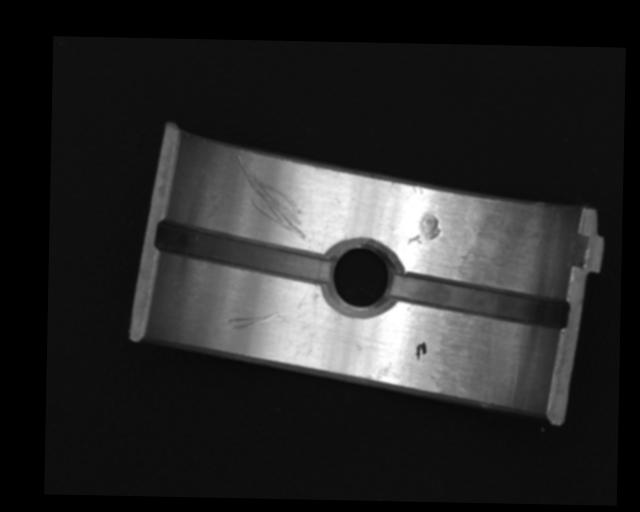blot: (415, 340, 427, 361)
bruise: (408, 212, 441, 245)
gap: (155, 221, 332, 284), (391, 275, 571, 329)
hole: (326, 241, 397, 316)
nick: (232, 156, 308, 240), (228, 311, 285, 330)
